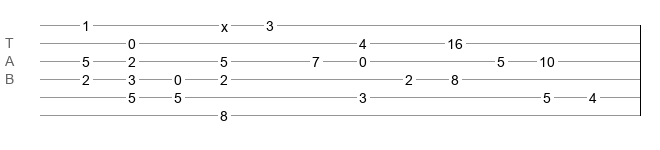0: (128, 36, 136, 46), (174, 72, 182, 82), (359, 54, 367, 64)
1: (82, 18, 90, 28)
10: (539, 54, 555, 64)
16: (447, 36, 463, 46)
2: (82, 72, 90, 82), (128, 54, 136, 64), (220, 72, 228, 82), (405, 72, 413, 82)
3: (128, 72, 136, 82), (266, 18, 274, 28), (359, 90, 367, 100)
4: (359, 36, 367, 46), (589, 90, 597, 100)
5: (82, 54, 90, 64), (128, 90, 136, 100), (174, 90, 182, 100), (220, 54, 228, 64), (497, 54, 505, 64), (543, 90, 551, 100)
7: (312, 54, 320, 64)
8: (220, 108, 228, 118), (451, 72, 459, 82)
x: (221, 19, 228, 27)
